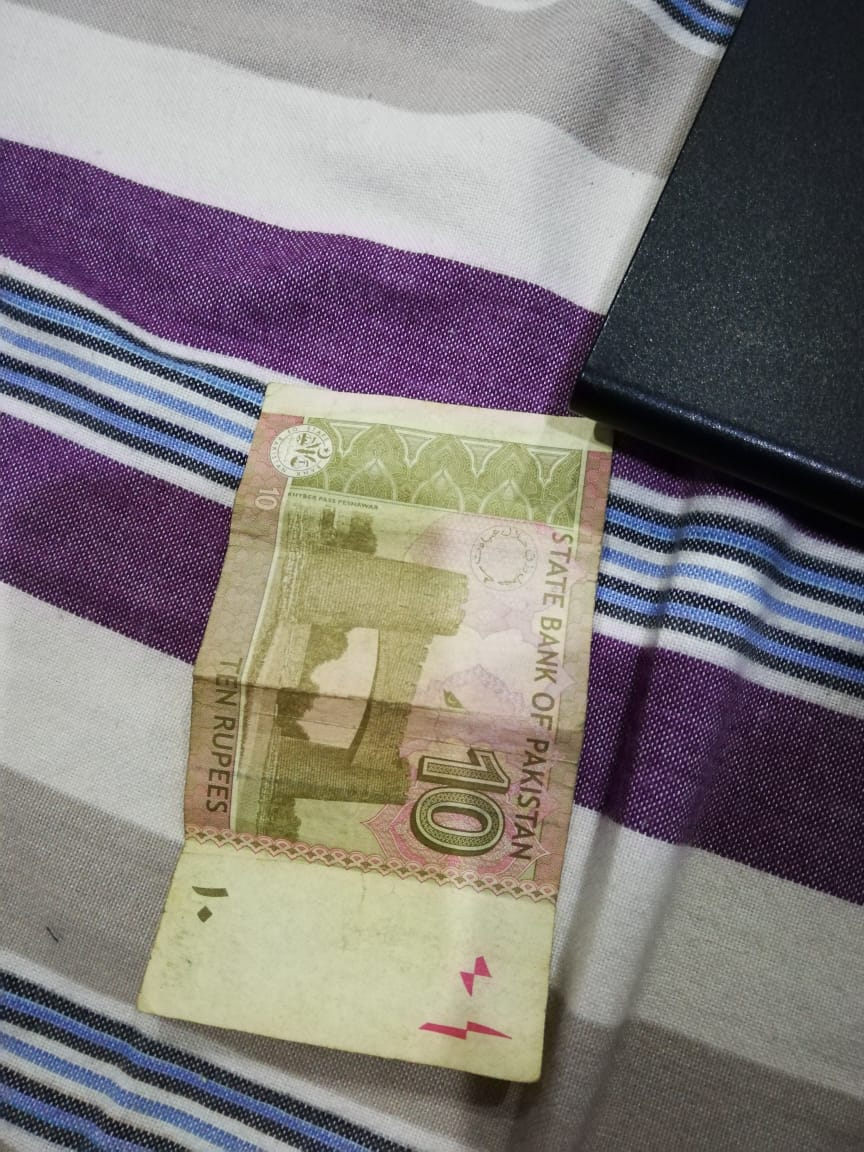10 rupee: (126, 402, 611, 1076)
